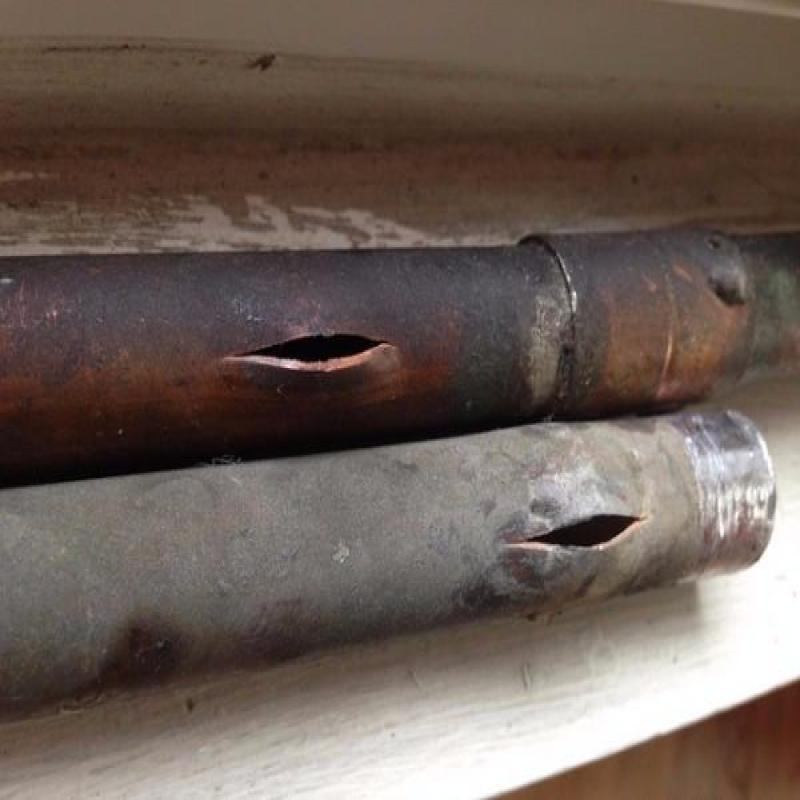Fracture: (222, 328, 415, 374), (521, 512, 665, 550)
